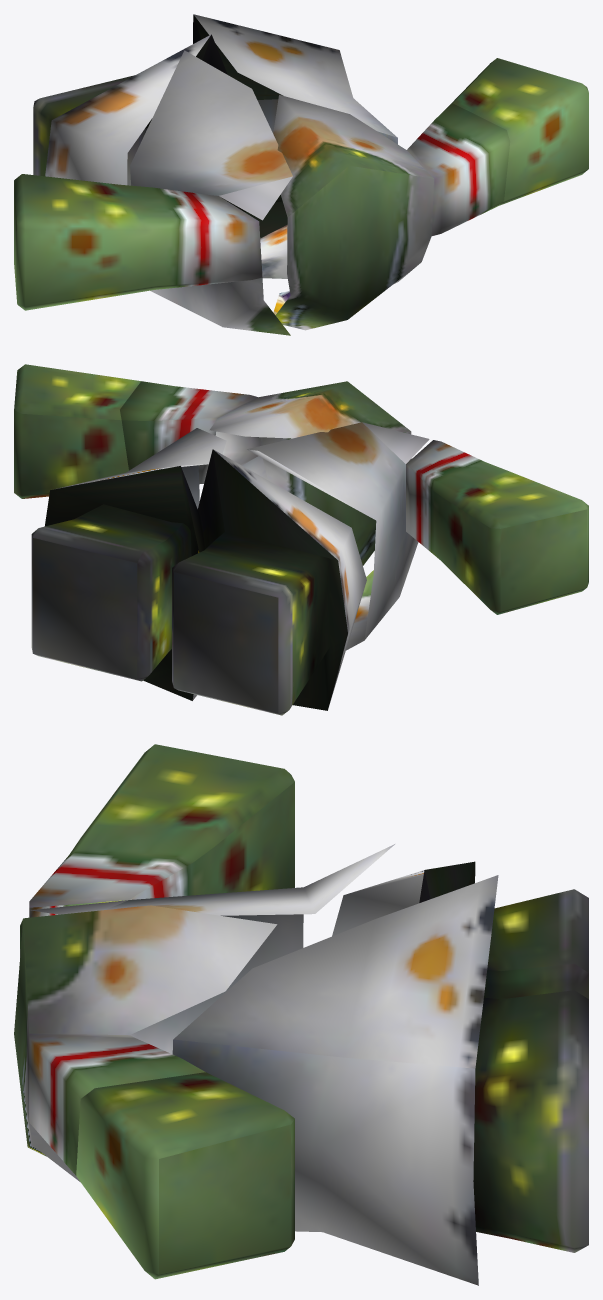
The model's file is Zombie_Broken_Nurse_Body_170c757d__Zombie_Nurse_Green_6fcc3c18_c1f257.obj.
3 renders of one model, top to bottom at view 1: azimuth 30°, elevation 25°; view 2: azimuth 150°, elevation 25°; view 3: azimuth 270°, elevation 25°, orthographic. The views are drawn at different scales.
Size of the model in its own units: 1.41 by 0.5751 by 0.8337.
Materials: 1 (1 with a texture image).
